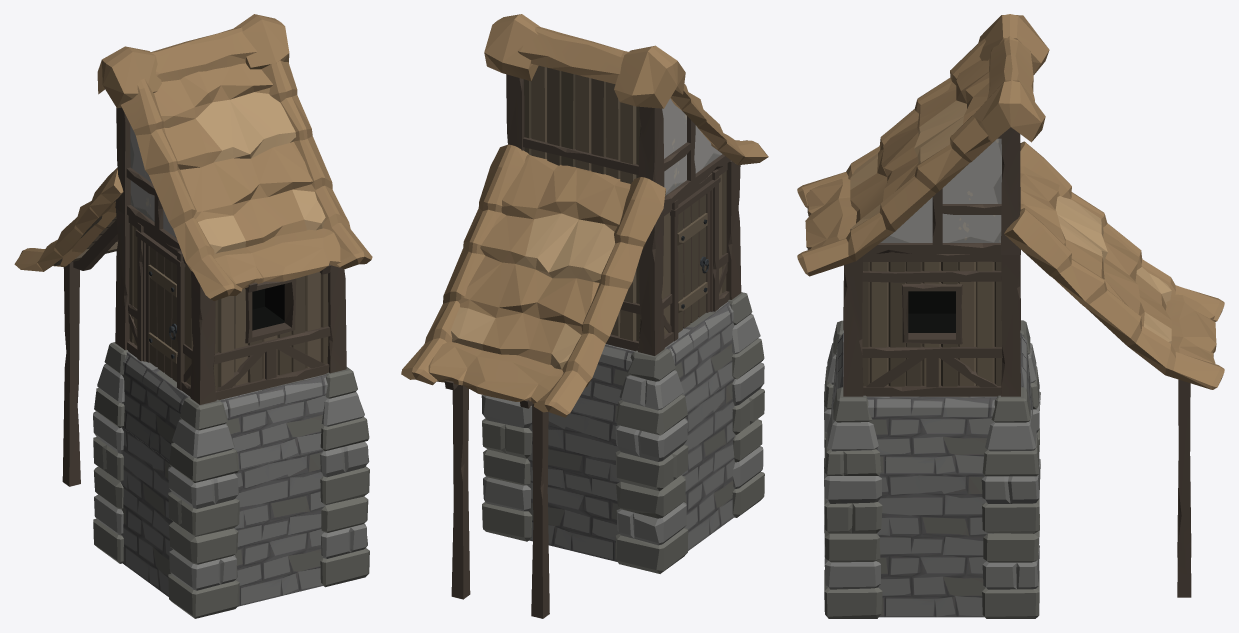
File: SM_Bld_Preset_Hut_02_Optimized.glb
3 views of the same model, side by side, from view 1: azimuth 30°, elevation 25°; view 2: azimuth 150°, elevation 25°; view 3: azimuth 270°, elevation 25° (orthographic). The views are drawn at different scales.
Visible parts, largest first — view 1: SM_Bld_Preset_Hut_02_Optimized; view 2: SM_Bld_Preset_Hut_02_Optimized; view 3: SM_Bld_Preset_Hut_02_Optimized.
Boxes of the visible parts, <box> form: SM_Bld_Preset_Hut_02_Optimized: <box>14,14,372,618</box>; SM_Bld_Preset_Hut_02_Optimized: <box>401,14,768,618</box>; SM_Bld_Preset_Hut_02_Optimized: <box>797,14,1224,618</box>.
Size of the model in its own units: 3.49 by 9.24 by 6.78.
Materials: 1 (1 with a texture image).
